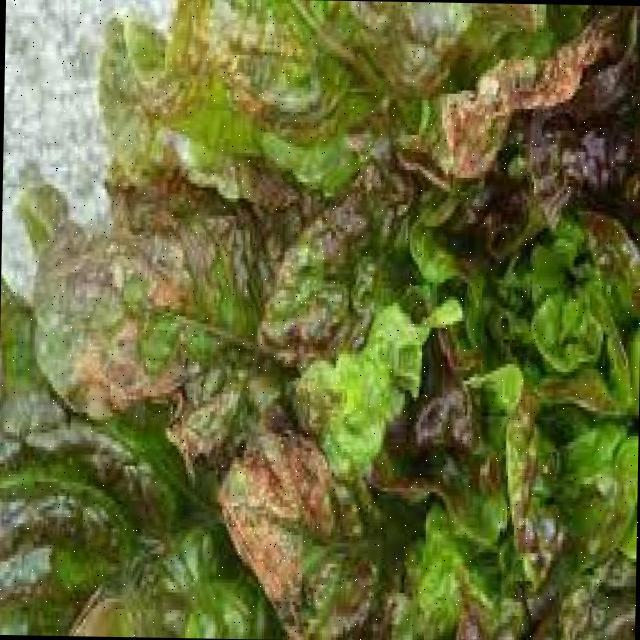Lettuce Mosaic Virus: (60, 237, 381, 624)
